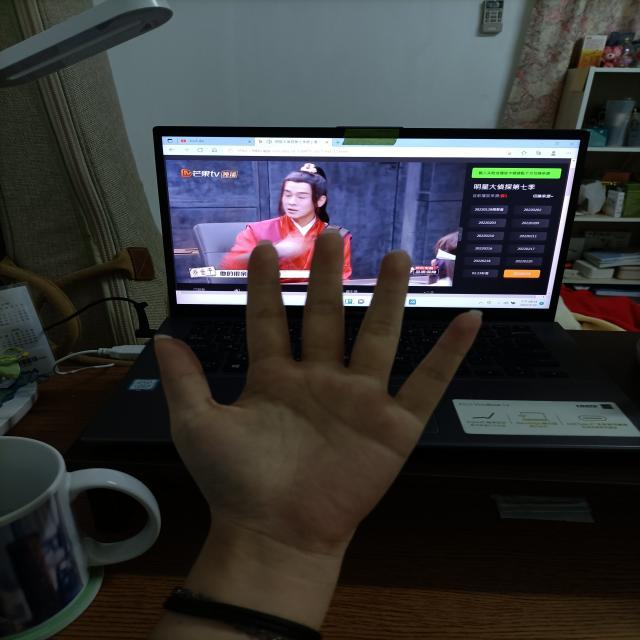Hand: (137, 227, 490, 607)
